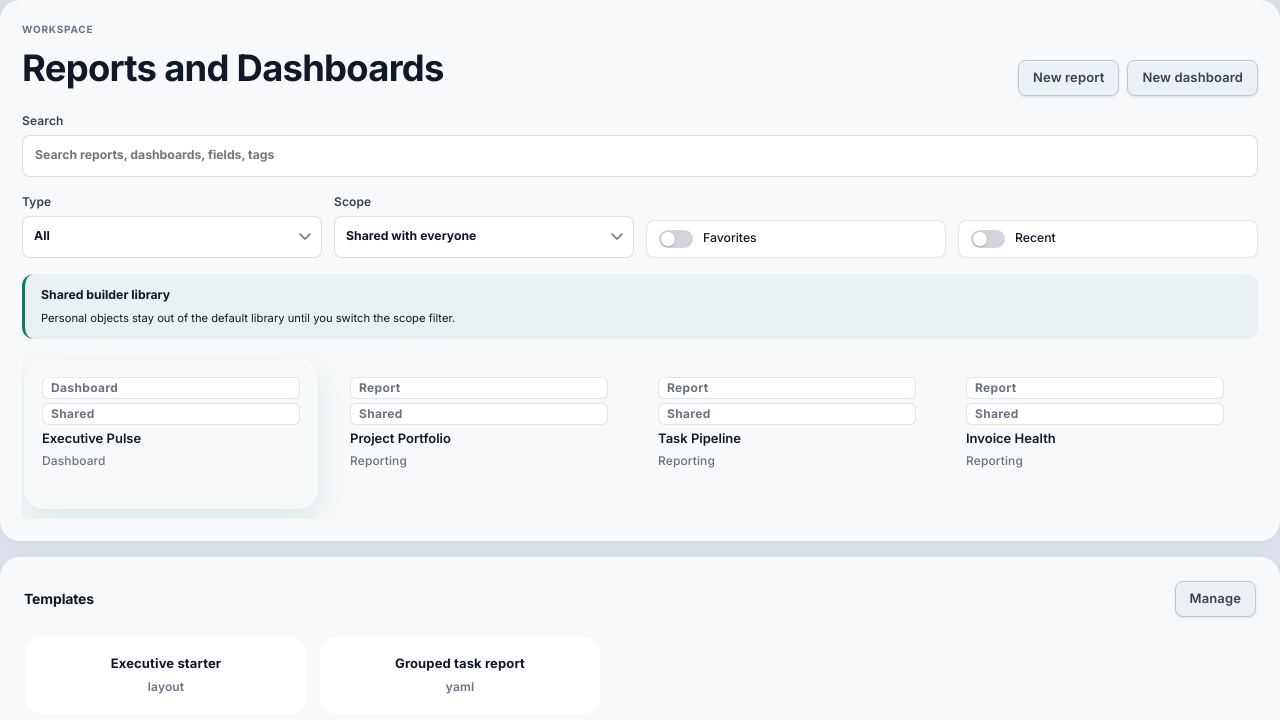
Scenario: StudioLibrarySidebar › filters the visible builder library by search text
Type "invoice" into the field with placeholder "Search reports, dashboards, fields, tags" at (640, 156), box left=22, top=135, right=1258, bottom=177
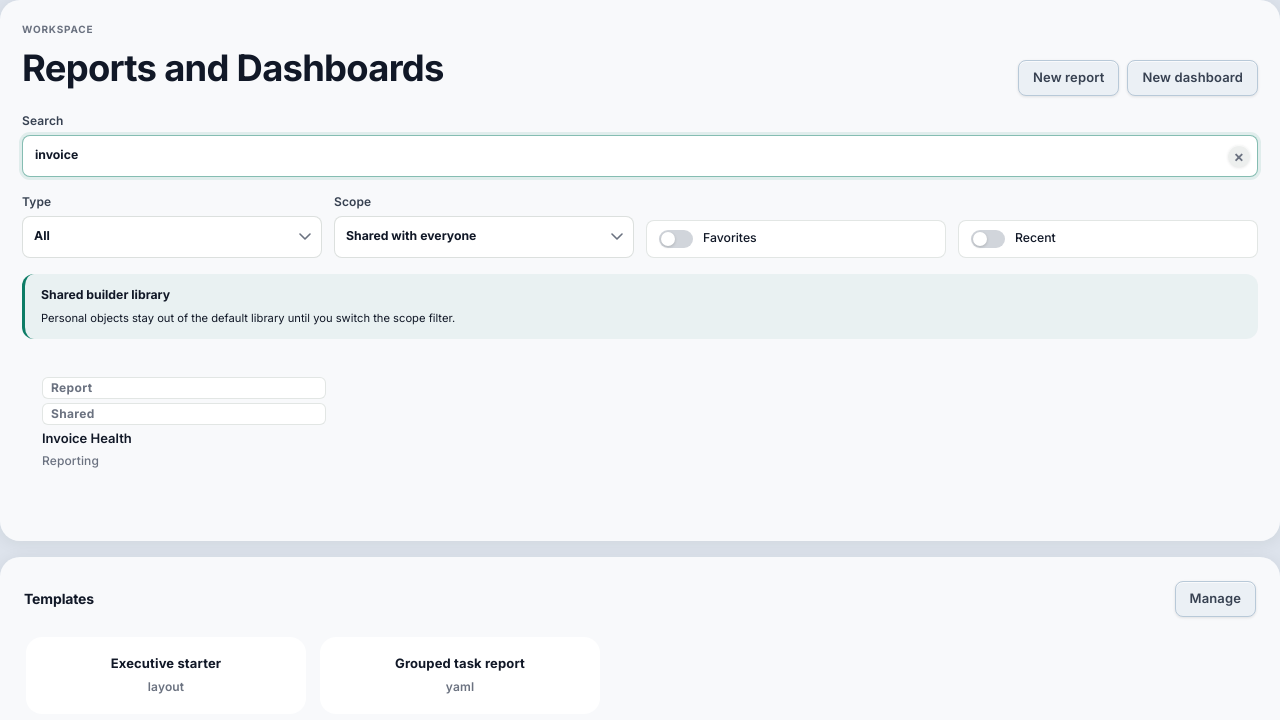
Expected: the text "Invoice Health" is shown, left=42, top=430, right=132, bottom=446
Result: the link "Task Pipeline" is gone
